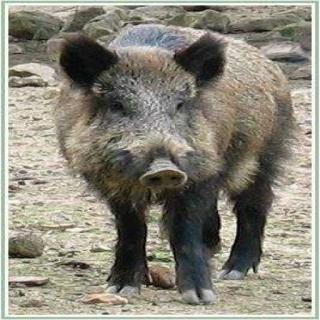Pig: (49, 0, 299, 315)
